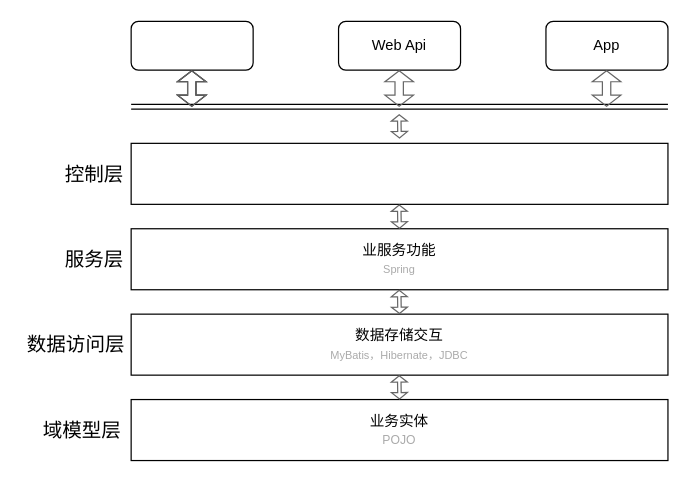
This 689x482 diagram has some shape labels left out. Here are the shapes that lost their labels. From the top down, the centre of each, then its label:
At [191,45]: "Web App".
At [399,173]: "请求和响应 Spring MVC，Servlet/JSP".
